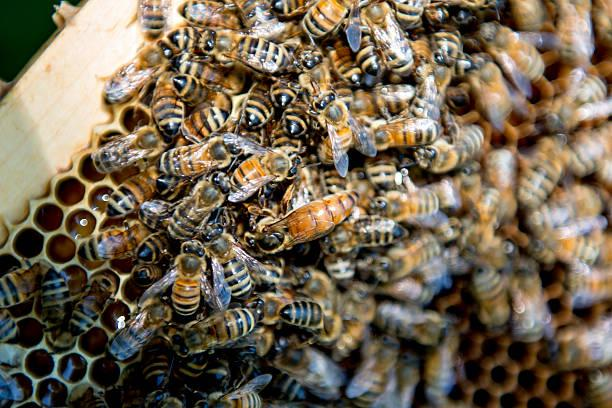Queen-Bee: (250, 190, 359, 253)
worker-bee: (104, 27, 194, 103), (309, 79, 376, 176), (158, 133, 268, 176), (202, 224, 262, 298), (197, 29, 293, 73), (168, 171, 230, 239), (172, 308, 257, 356), (357, 235, 439, 281), (274, 346, 345, 399), (346, 335, 398, 407), (109, 299, 170, 360), (364, 2, 413, 76), (228, 149, 295, 201), (414, 125, 483, 173), (410, 54, 453, 121), (77, 221, 147, 260), (171, 240, 203, 317), (107, 169, 156, 217), (152, 72, 184, 142), (372, 189, 439, 222), (373, 117, 439, 150), (294, 41, 332, 93), (41, 268, 71, 330), (178, 0, 240, 29), (181, 106, 229, 142), (302, 0, 347, 37), (328, 39, 361, 86), (242, 84, 272, 128), (278, 300, 322, 330), (172, 74, 207, 105), (432, 31, 461, 66), (281, 102, 310, 137)
